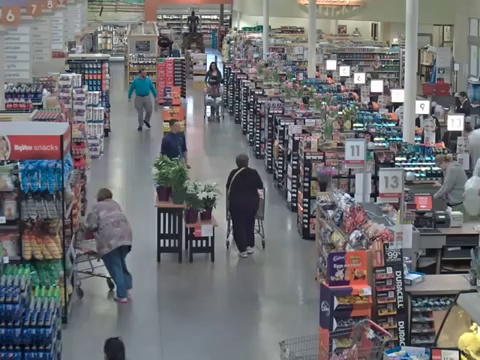face: (210, 63, 216, 70), (140, 70, 145, 76)
